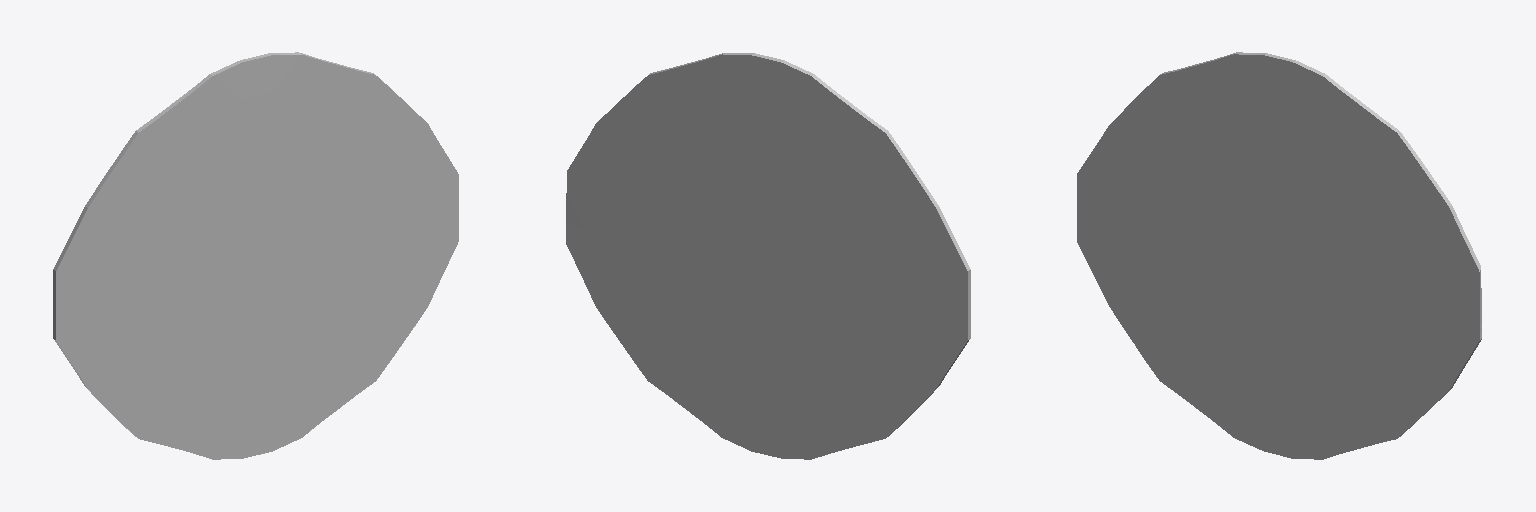
Rendered from slice.obj.
3 views of the same model, side by side, from view 1: azimuth 30°, elevation 25°; view 2: azimuth 150°, elevation 25°; view 3: azimuth 330°, elevation 25° (orthographic).
Parts seen in each view (by area): view 1: test_Material.001; view 2: test_Material.001; view 3: test_Material.001.
Boxes of the visible parts, x1,y1,x2,y2 form: test_Material.001: [53, 52, 458, 459]; test_Material.001: [566, 53, 970, 459]; test_Material.001: [1077, 52, 1481, 459].
Bounding box in the file's own units: 2.43 × 2.29 × 0.0303.